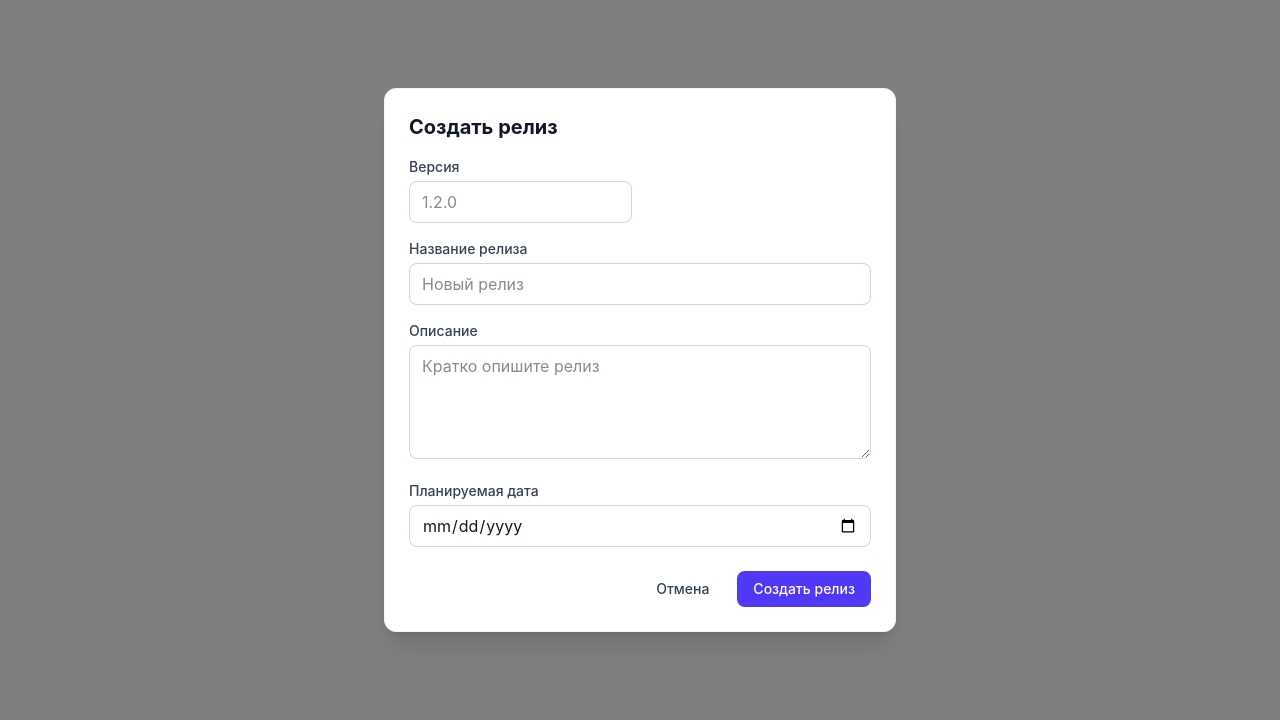
CreateReleaseModal › shows validation errors for empty required fields
Click the button "Создать релиз" at point(804, 589), box left=737, top=571, right=871, bottom=607
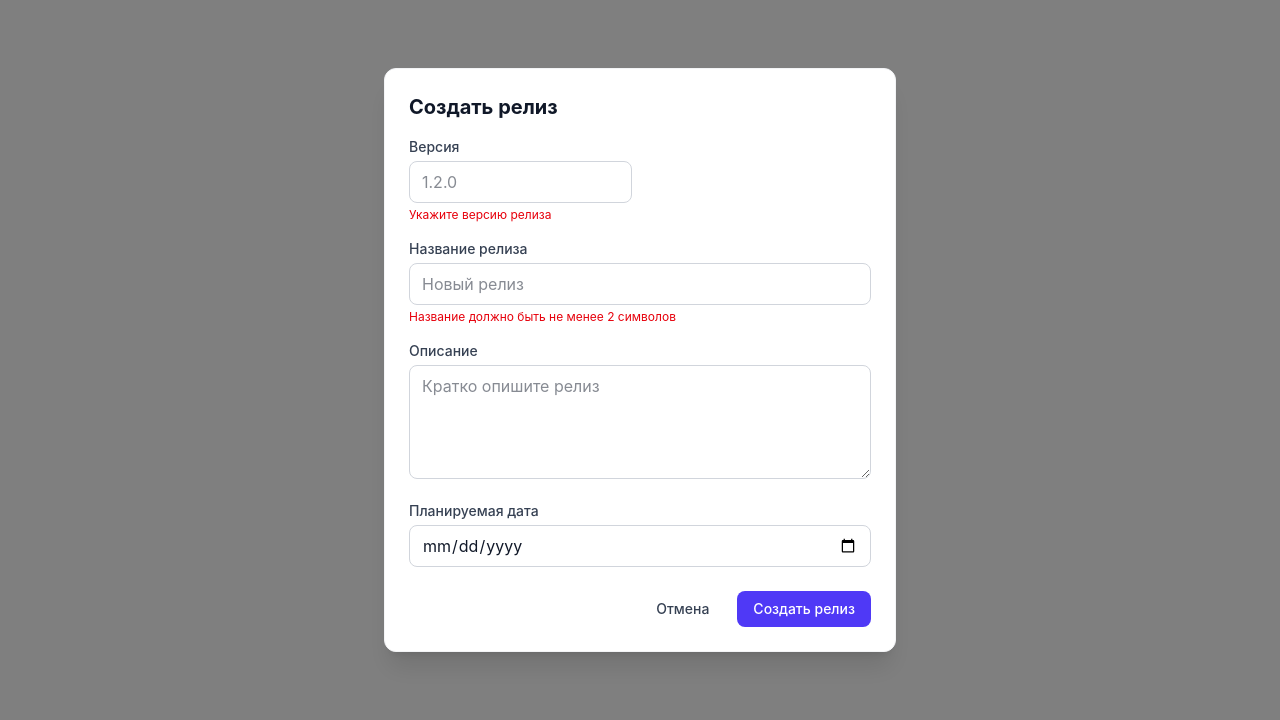
Expected: the text "Укажите версию релиза" is shown, left=409, top=207, right=552, bottom=222
Expected: the text "Название должно быть не менее 2 символов" is shown, left=409, top=309, right=676, bottom=324
